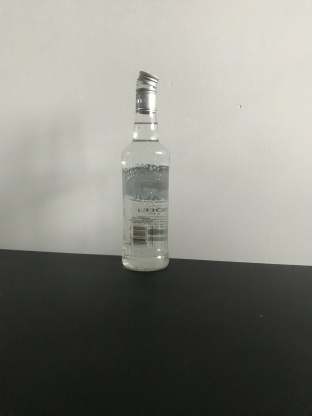nakretka: (134, 67, 160, 114)
